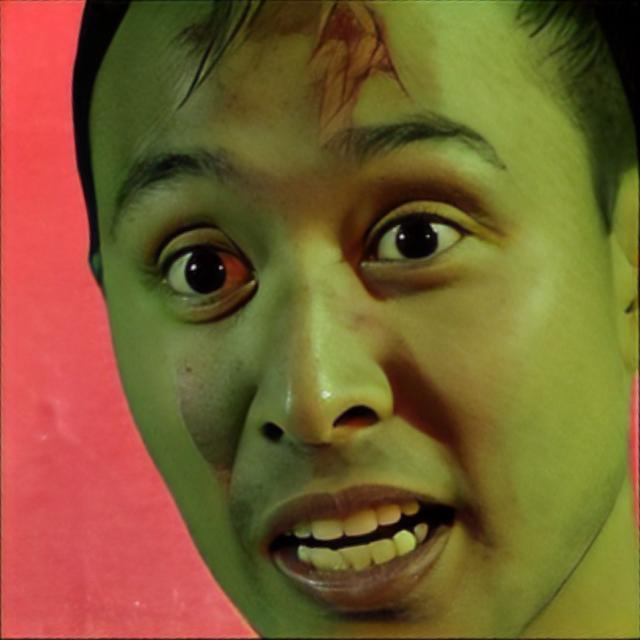fear: (90, 0, 633, 640)
